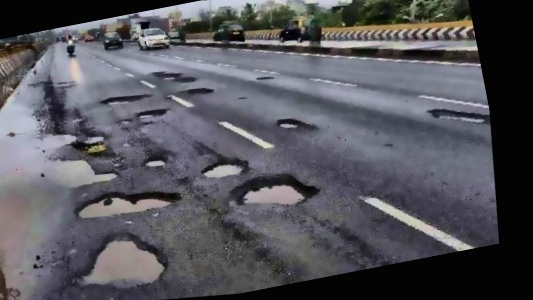pothole: (64, 217, 176, 300), (69, 173, 186, 232), (227, 161, 323, 219), (49, 145, 124, 194), (426, 95, 492, 134), (198, 151, 251, 184), (149, 60, 200, 91), (100, 86, 152, 110), (276, 113, 307, 133), (186, 81, 216, 99), (134, 105, 165, 122), (141, 153, 168, 170)
